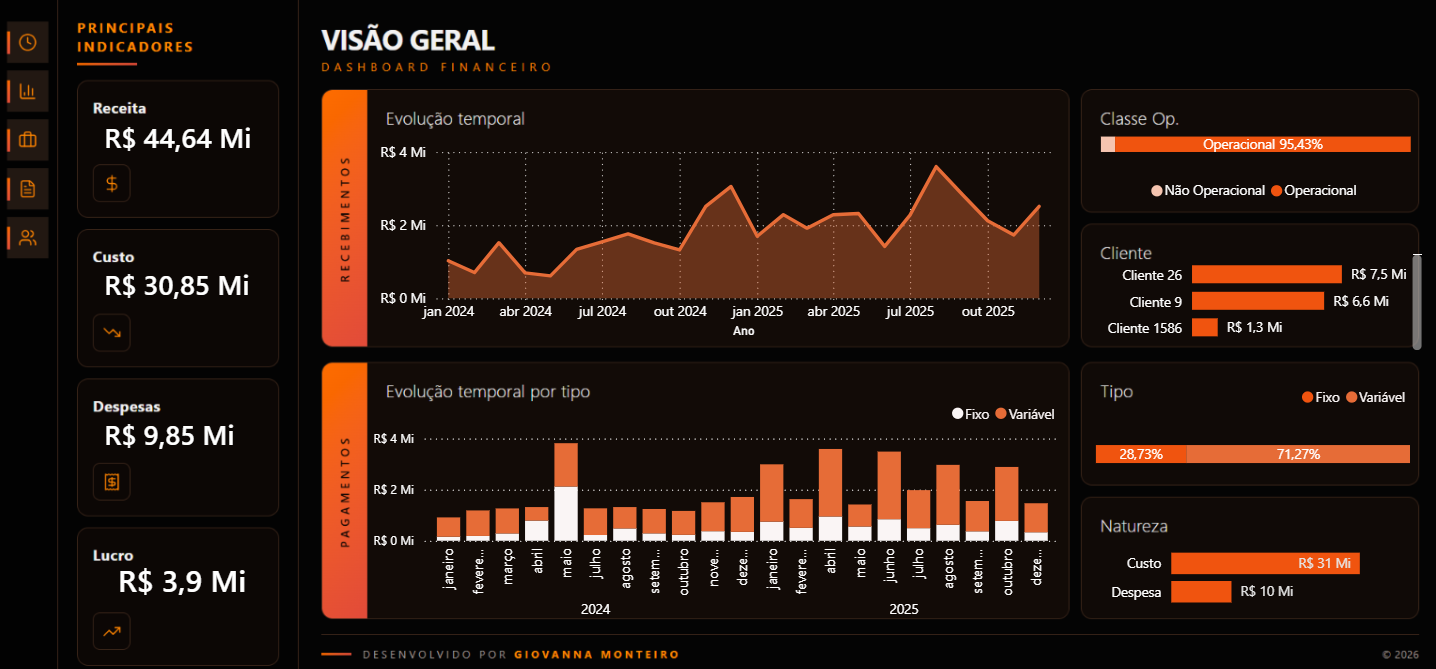

This screenshot's page, from the dashboard's own definition file:
{"tool":"powerbi","page":{"name":"Página 1","canvas":[1280,720],"ordinal":0},"visuals":[{"type":"cardVisual","fields":{"Data":["Clientes.Soma do valor"]},"box":[65.9,122.1,256.6,105.7],"z":0},{"type":"cardVisual","fields":{"Data":["Clientes.Soma do valor"]},"box":[65.9,253.9,256.6,105.7],"z":1000},{"type":"cardVisual","fields":{"Data":["Clientes.Soma do valor"]},"box":[65.9,387,256.6,105.7],"z":2000},{"type":"cardVisual","fields":{"Data":["Clientes.Lucro"]},"box":[78.1,519,272.5,99.5],"z":3000},{"type":"areaChart","fields":{"Category":["Movimentação.Data da Movimentação.Variation.Hierarquia de datas.Ano","Movimentação.Data da Movimentação.Variation.Hierarquia de datas.Mês"],"Y":["Clientes.Soma do valor"]},"box":[334.8,175.6,620.2,183.9],"z":4000},{"type":"hundredPercentStackedBarChart","fields":{"Series":["Movimentação.Classe Operacional"],"Y":["Sum(Movimentação.Valor com Sinal)"]},"box":[975.6,144.1,285.4,97.4],"z":5000},{"type":"clusteredBarChart","fields":{"Category":["Clientes.Nome Cliente"],"Y":["Clientes.Soma do valor"]},"box":[975.6,267.6,295,102.9],"z":6000},{"type":"columnChart","fields":{"Category":["Movimentação.Data da Movimentação.Variation.Hierarquia de datas.Ano","Movimentação.Data da Movimentação.Variation.Hierarquia de datas.Mês"],"Series":["Movimentação.Tipo de Saída"],"Y":["Clientes.Soma do valor"]},"box":[329.2,402.7,620.1,215.9],"z":7000},{"type":"hundredPercentStackedBarChart","fields":{"Series":["Movimentação.Tipo de Saída"],"Y":["Clientes.Soma do valor"]},"box":[970.7,387.4,289.4,105.6],"z":8000},{"type":"clusteredBarChart","fields":{"Category":["Movimentação.Natureza da Conta"],"Y":["Clientes.Soma do valor"]},"box":[981.4,509.9,289.4,108.7],"z":8001}]}

Visuals, with their boxes in screenshot pixels (x1, y1, x2, y2):
cardVisual - Clientes.Soma do valor: <box>124,82,359,179</box>
cardVisual - Clientes.Soma do valor: <box>124,203,359,300</box>
cardVisual - Clientes.Soma do valor: <box>124,325,359,422</box>
cardVisual - Clientes.Lucro: <box>135,446,385,537</box>
areaChart - Movimentação.Data da Movimentação.Variation.Hierarquia de datas.Ano x Movimentação.Data da Movimentação.Variation.Hierarquia de datas.Mês: <box>371,131,939,300</box>
hundredPercentStackedBarChart - Movimentação.Classe Operacional x Sum(Movimentação.Valor com Sinal): <box>958,102,1220,191</box>
clusteredBarChart - Clientes.Nome Cliente x Clientes.Soma do valor: <box>958,215,1229,310</box>
columnChart - Movimentação.Data da Movimentação.Variation.Hierarquia de datas.Ano x Movimentação.Data da Movimentação.Variation.Hierarquia de datas.Mês: <box>365,339,934,537</box>
hundredPercentStackedBarChart - Movimentação.Tipo de Saída x Clientes.Soma do valor: <box>954,325,1219,422</box>
clusteredBarChart - Movimentação.Natureza da Conta x Clientes.Soma do valor: <box>963,438,1229,537</box>
